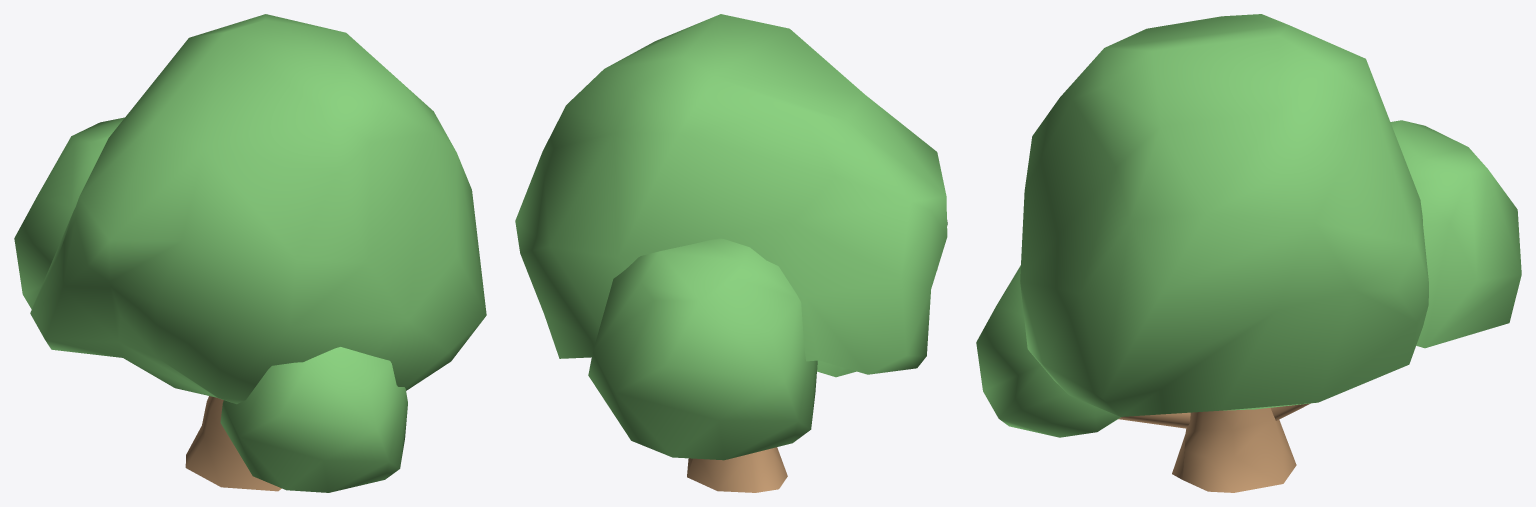
The model's file is Tree_v4.fbx.
3 renders of one model, left to right at view 1: azimuth 30°, elevation 25°; view 2: azimuth 150°, elevation 25°; view 3: azimuth 270°, elevation 25°, orthographic. The views are drawn at different scales.
Visible parts, largest first — view 1: Volume7_copy003_1, Volume7_copy004, Volume7_copy004_1, Polygon; view 2: Volume7_copy003_1, Volume7_copy004_1, Polygon; view 3: Volume7_copy003_1, Volume7_copy004_1, Volume7_copy004, Polygon, Sweep_1.
Boxes of the visible parts, x1,y1,x2,y2 form: Volume7_copy003_1: (30, 14, 486, 404); Volume7_copy004: (220, 347, 407, 492); Volume7_copy004_1: (14, 117, 124, 309); Polygon: (185, 396, 281, 491); Volume7_copy003_1: (515, 14, 947, 374); Volume7_copy004_1: (588, 238, 817, 460); Polygon: (687, 447, 787, 492); Volume7_copy003_1: (1020, 14, 1428, 416); Volume7_copy004_1: (1390, 120, 1521, 348); Volume7_copy004: (976, 265, 1120, 437); Polygon: (1172, 408, 1296, 492); Sweep_1: (1118, 412, 1190, 428).
Size of the model in its own units: 751 by 795 by 859.
